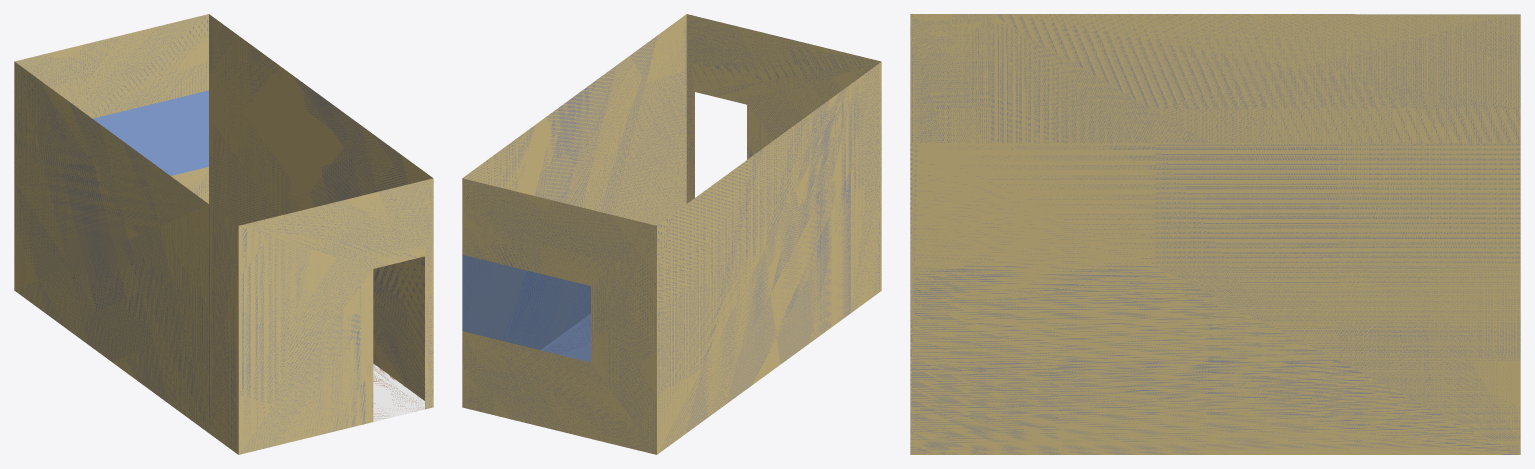
The model's file is DES013.obj.
The picture shows the model from 3 angles, left to right: view 1: azimuth 30°, elevation 25°; view 2: azimuth 150°, elevation 25°; view 3: azimuth 270°, elevation 25°; orthographic projection. The views are drawn at different scales.
Visible parts, largest first — view 1: Mesh1 DES013 Model; view 2: Mesh1 DES013 Model; view 3: Mesh1 DES013 Model.
Part boxes in pixels (x1,y1,x2,y2): Mesh1 DES013 Model: (14, 14, 433, 454); Mesh1 DES013 Model: (462, 14, 881, 454); Mesh1 DES013 Model: (910, 14, 1520, 454).
Size of the model in its own units: 2.67 by 3 by 5.32.
Materials: 5 (1 with a texture image).
